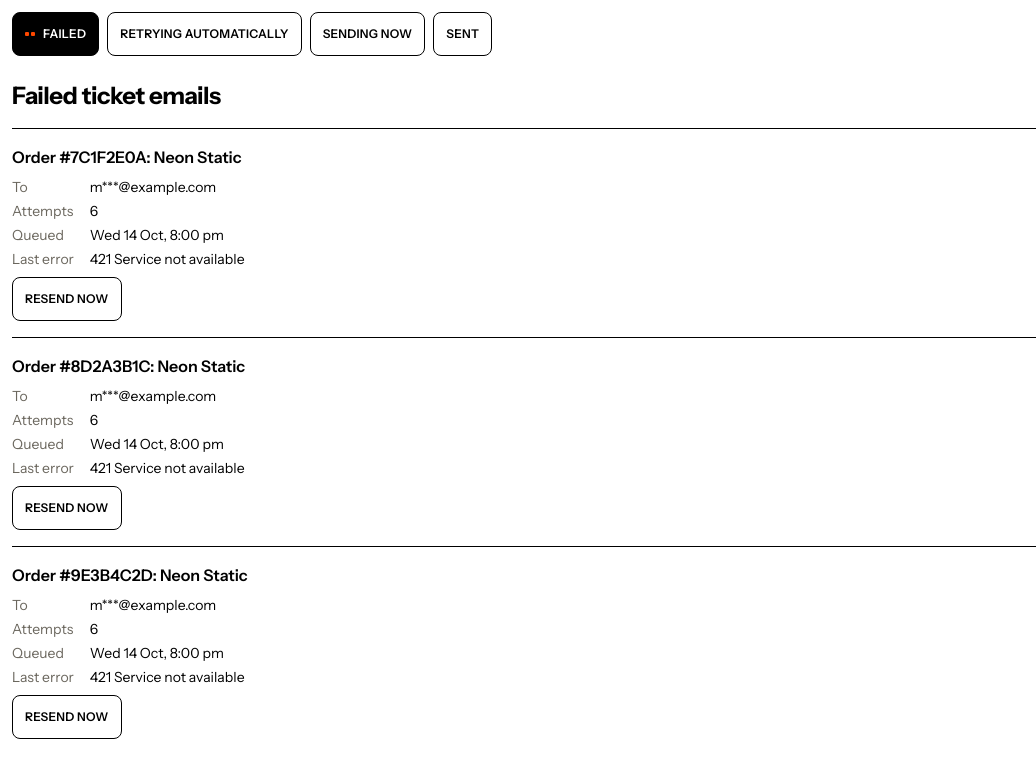
Test case: EmailOutbox › moves focus to the next email when a resent one leaves the list
Click the button "Resend now" below "#8D2A3B1C".
click(67, 508)  # box [12,486,122,530]
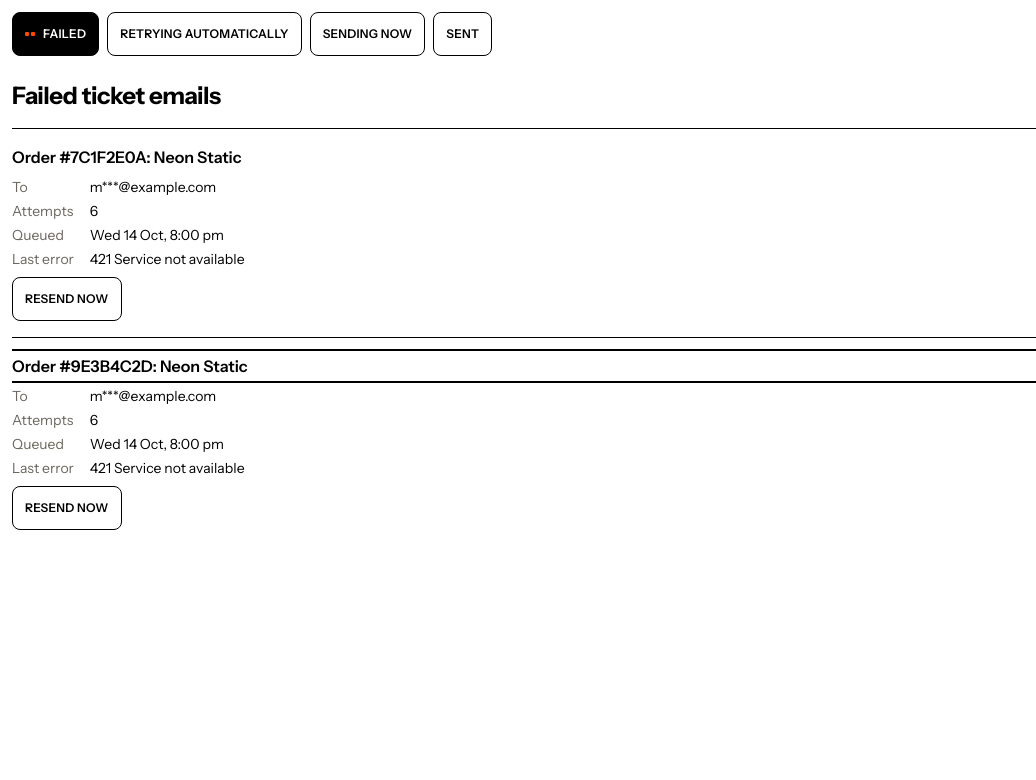
Expected: the heading "Order #8D2A3B1C: Neon Static" is gone
Expected: the number of list items is 2, [12,128,1035,321]; [12,337,1035,530]
